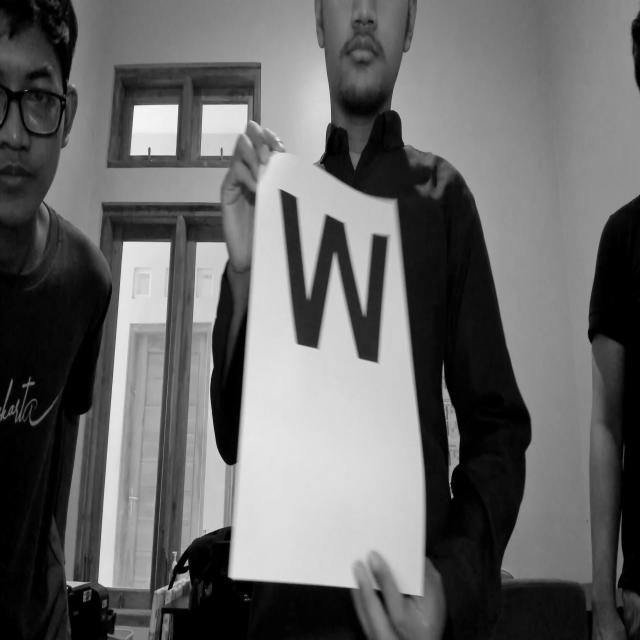w: (266, 178, 402, 401)
